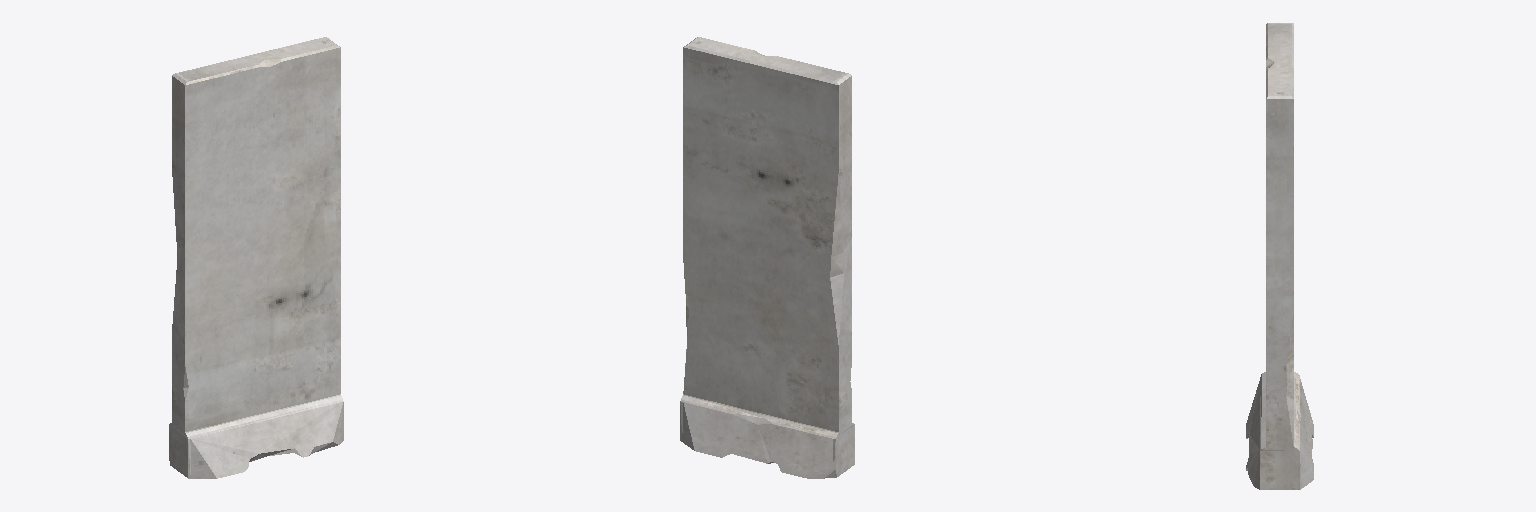
3 views of the same model, side by side, from view 1: azimuth 30°, elevation 25°; view 2: azimuth 150°, elevation 25°; view 3: azimuth 270°, elevation 25° (orthographic).
Visible parts, largest first — view 1: DrawCall_0; view 2: DrawCall_0; view 3: DrawCall_0.
Part boxes in pixels (x1,y1,x2,y2): DrawCall_0: (169, 37, 343, 478); DrawCall_0: (680, 37, 854, 478); DrawCall_0: (1246, 23, 1313, 489).
Size of the model in its own units: 0.5575 by 1.34 by 0.2126.
Materials: 1 (1 with a texture image).